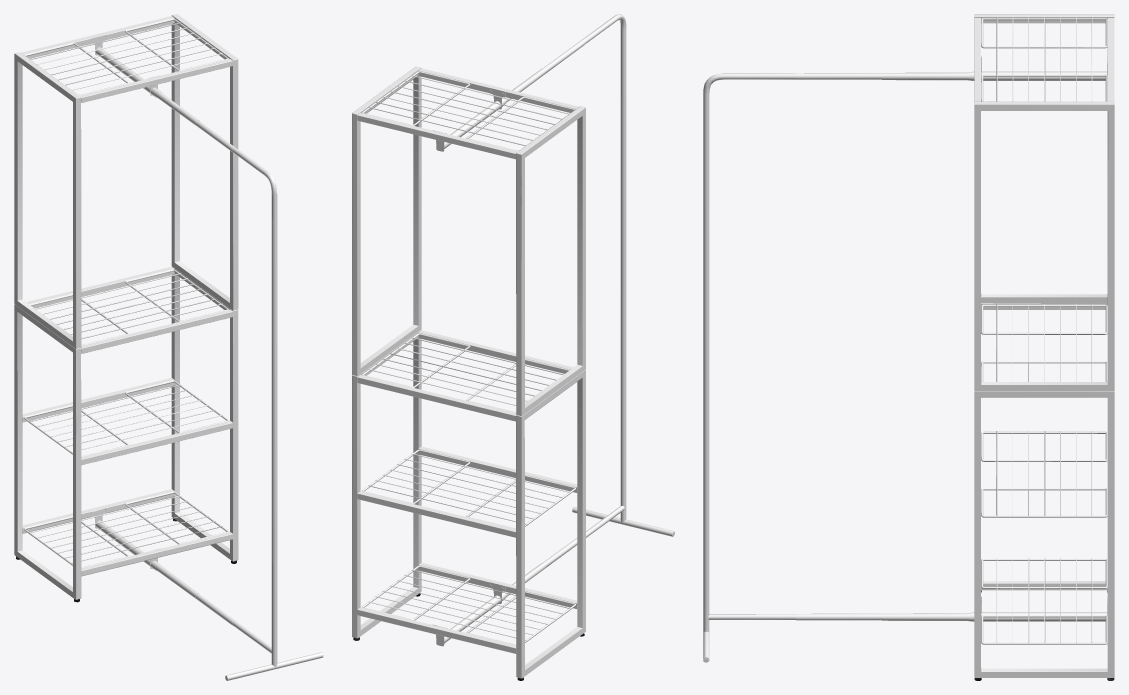
File: jostein_rega_z_suszarka_29437261.glb
3 views of the same model, side by side, from view 1: azimuth 30°, elevation 25°; view 2: azimuth 150°, elevation 25°; view 3: azimuth 270°, elevation 25° (orthographic). The views are drawn at different scales.
Visible parts, largest first — view 1: jostein_rega_z_suszarka_29437261; view 2: jostein_rega_z_suszarka_29437261; view 3: jostein_rega_z_suszarka_29437261.
Part boxes in pixels (<box>): jostein_rega_z_suszarka_29437261: <box>14,14,323,680</box>; jostein_rega_z_suszarka_29437261: <box>352,14,674,680</box>; jostein_rega_z_suszarka_29437261: <box>703,14,1114,680</box>.
Size of the model in its own units: 0.6095 by 1.81 by 1.17.
Materials: 1 (1 with a texture image).
